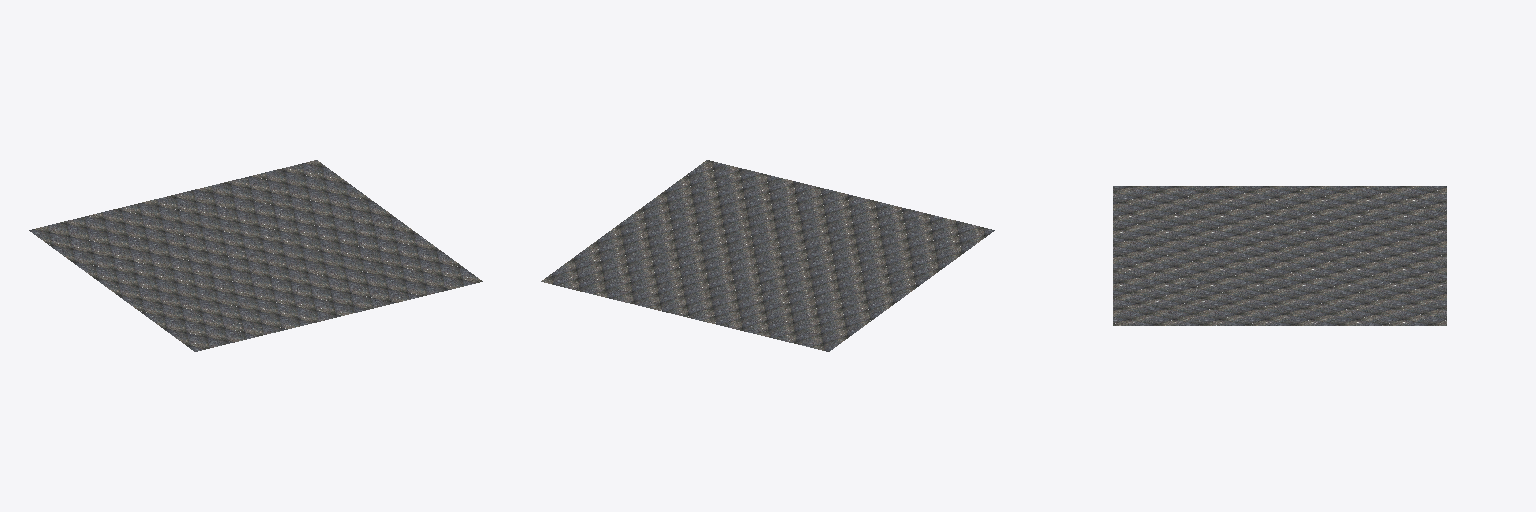
The picture shows the model from 3 angles: view 1: azimuth 30°, elevation 25°; view 2: azimuth 150°, elevation 25°; view 3: azimuth 270°, elevation 25°; orthographic projection.
Visible parts, largest first — view 1: Plane; view 2: Plane; view 3: Plane.
Part boxes in pixels (x1,y1,x2,y2): Plane: (29, 160, 482, 351); Plane: (541, 160, 994, 351); Plane: (1113, 186, 1446, 325).
Size of the model in its own units: 200 by 0 by 200.
1 materials, 1 textured.